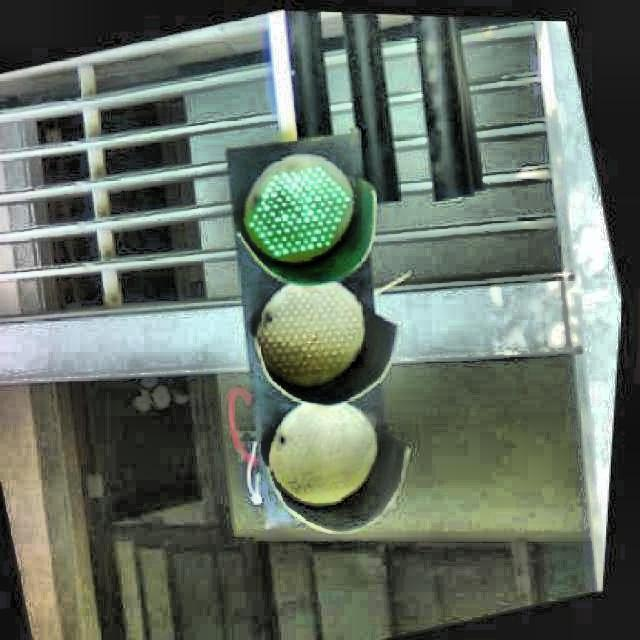green: (227, 136, 406, 525)
